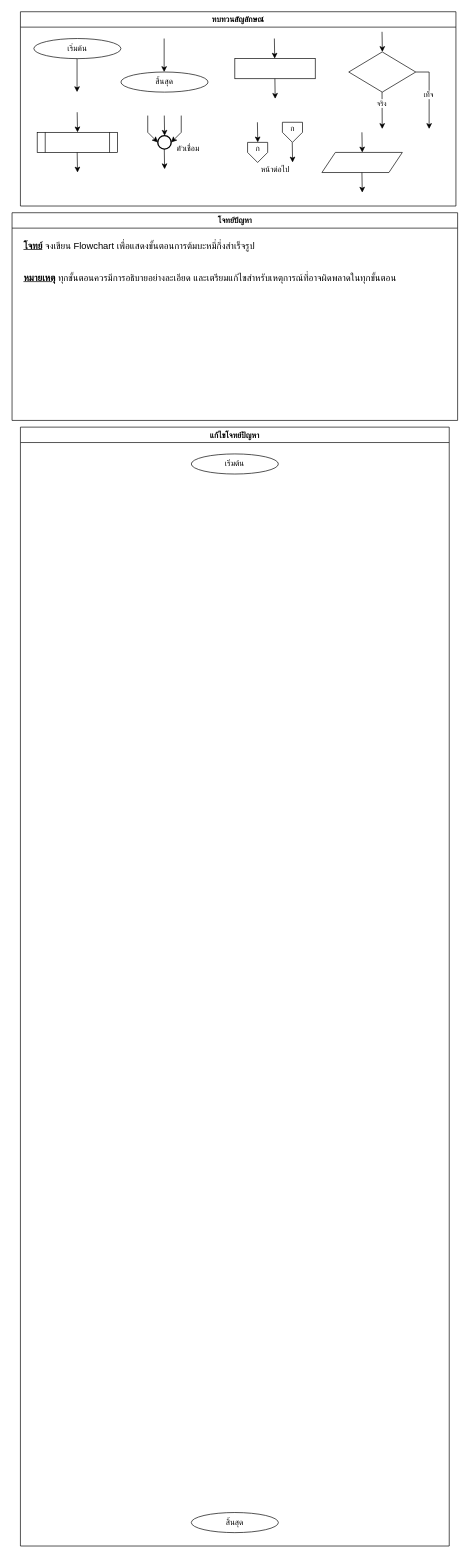
The diagram is 469 pixels wide and 1558 high, and some of its shapes have lost their labels. The centre of each missing label's shape, as x and y in pixels:
"กระบวนการ" belongs at (274,68).
"ประโยคเงื่อนไข" belongs at (382,71).
"ฟังก์ชัน/โมดูล" belongs at (77,142).
"แสดงผล/รับค่า" belongs at (361,162).
